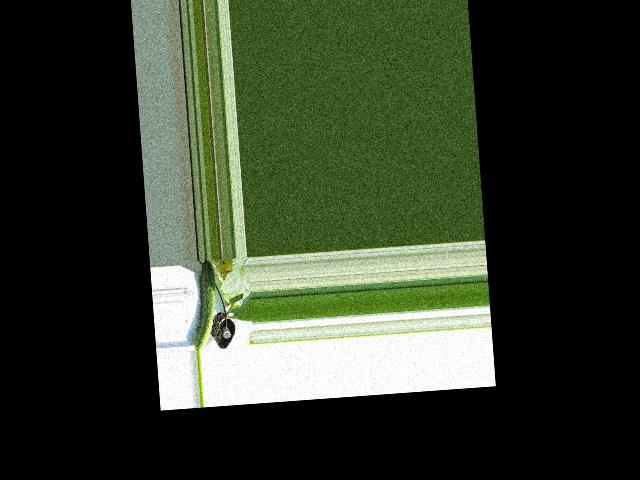cucumber: (188, 259, 219, 353)
